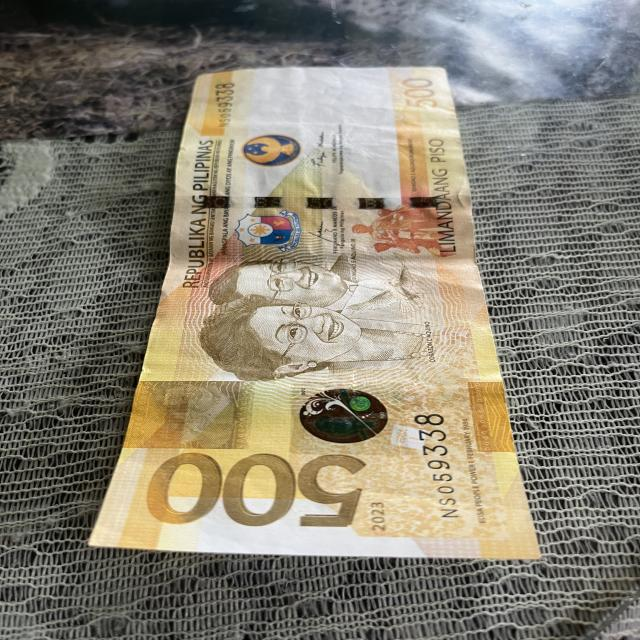concealed_value: (114, 381, 258, 448)
optically_variable_device: (289, 386, 408, 453)
serial_number: (400, 402, 466, 528)
